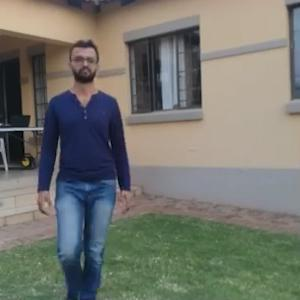follow: (32, 37, 132, 299)
